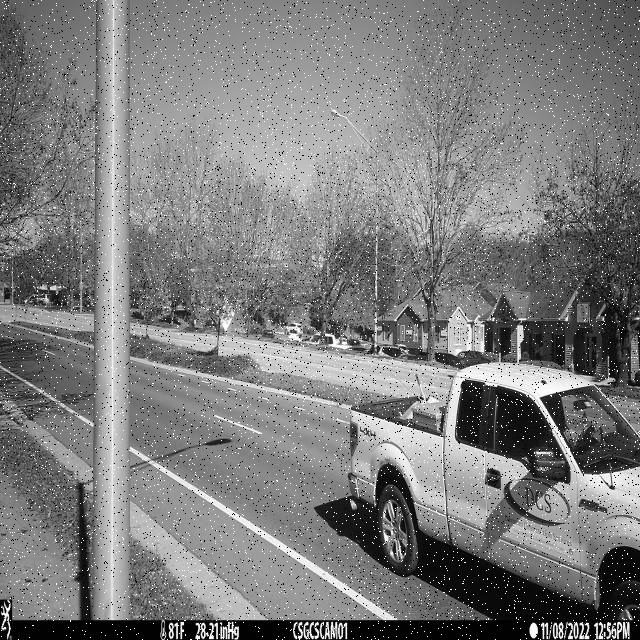Pickup: (347, 363, 640, 623)
